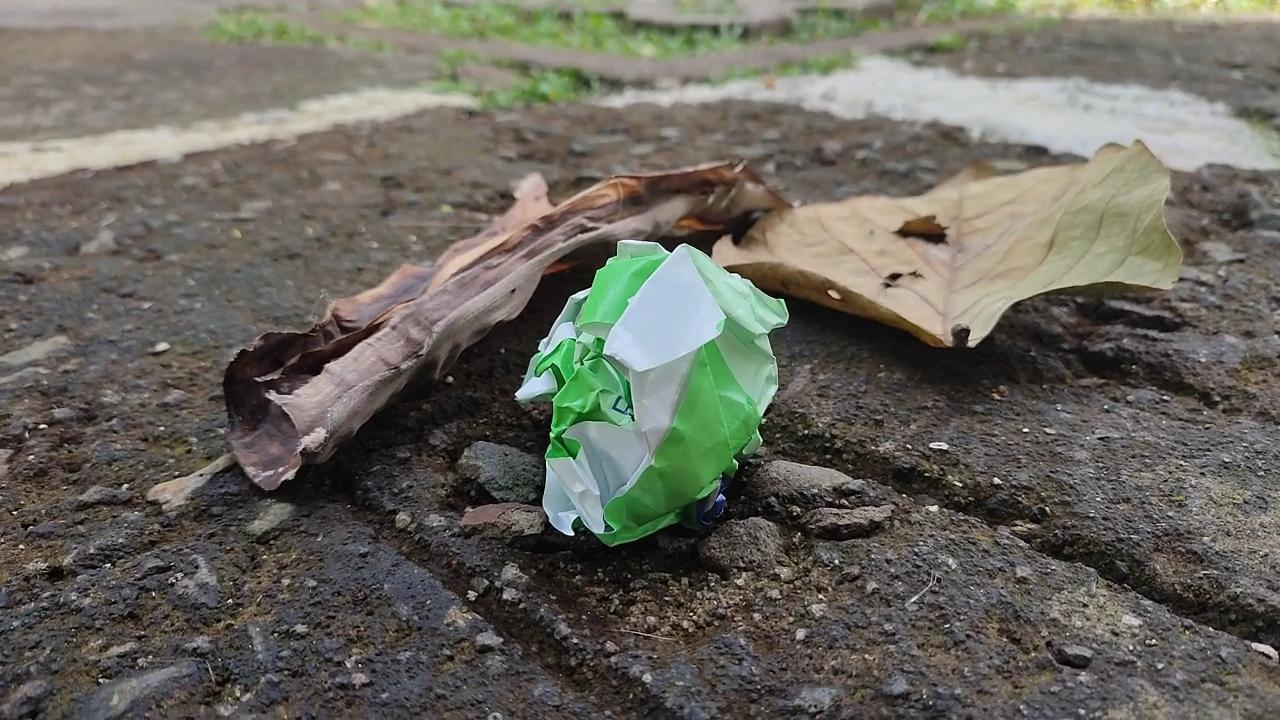Paper: (502, 227, 791, 548)
